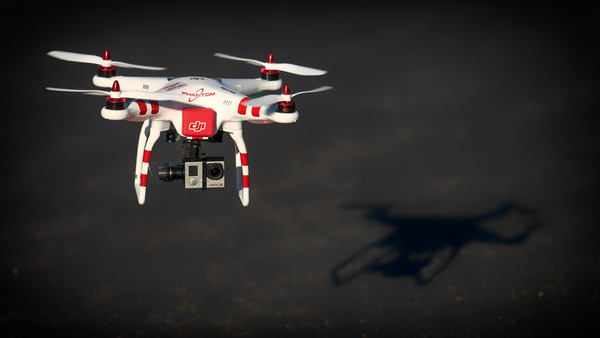drone: (42, 42, 334, 210)
